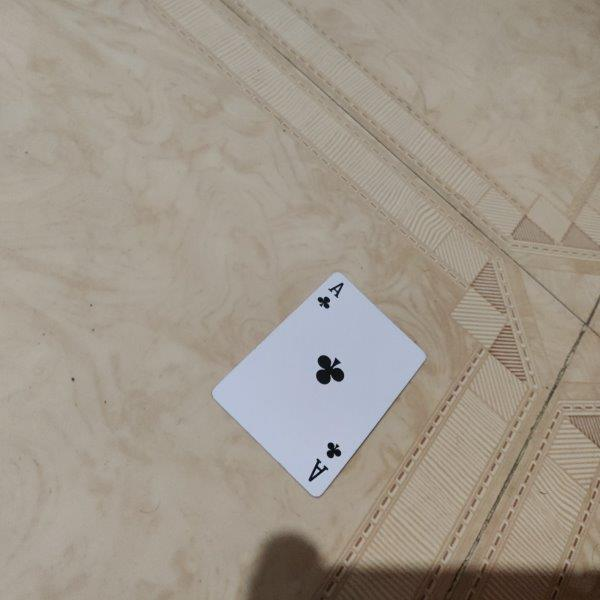Ace of Clubs: (211, 271, 429, 498)
